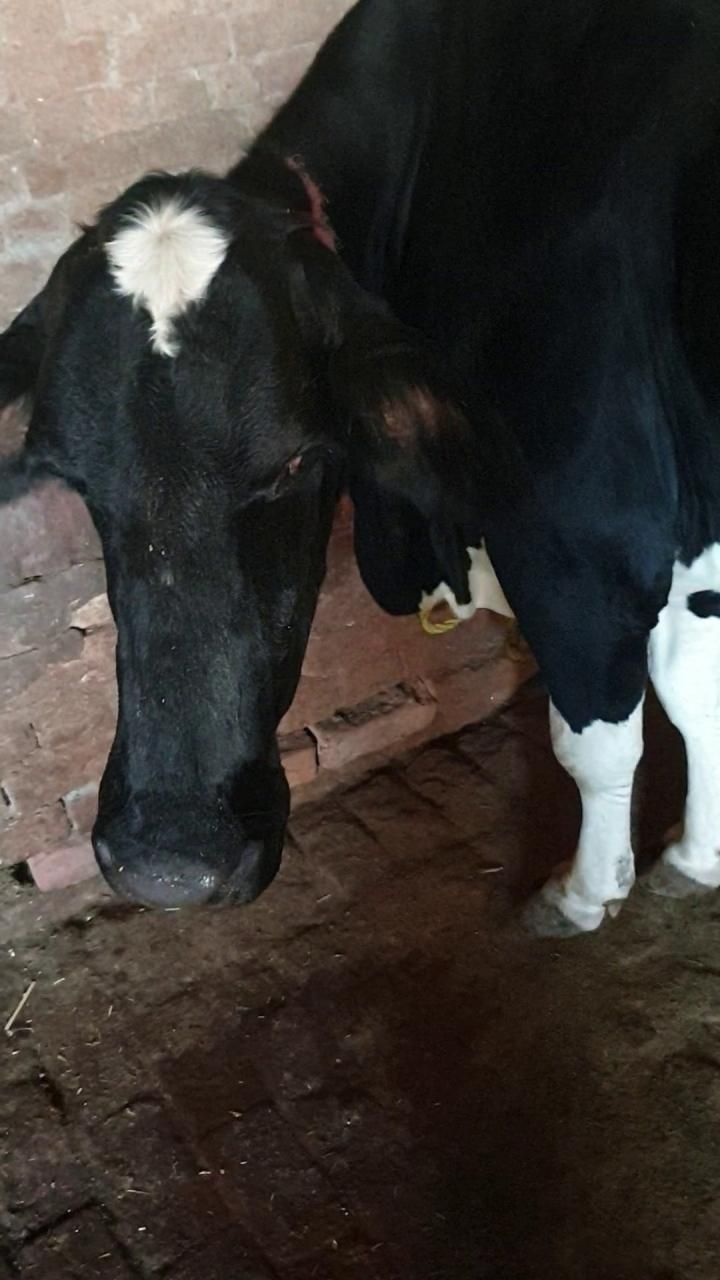cows: (0, 141, 383, 931)
